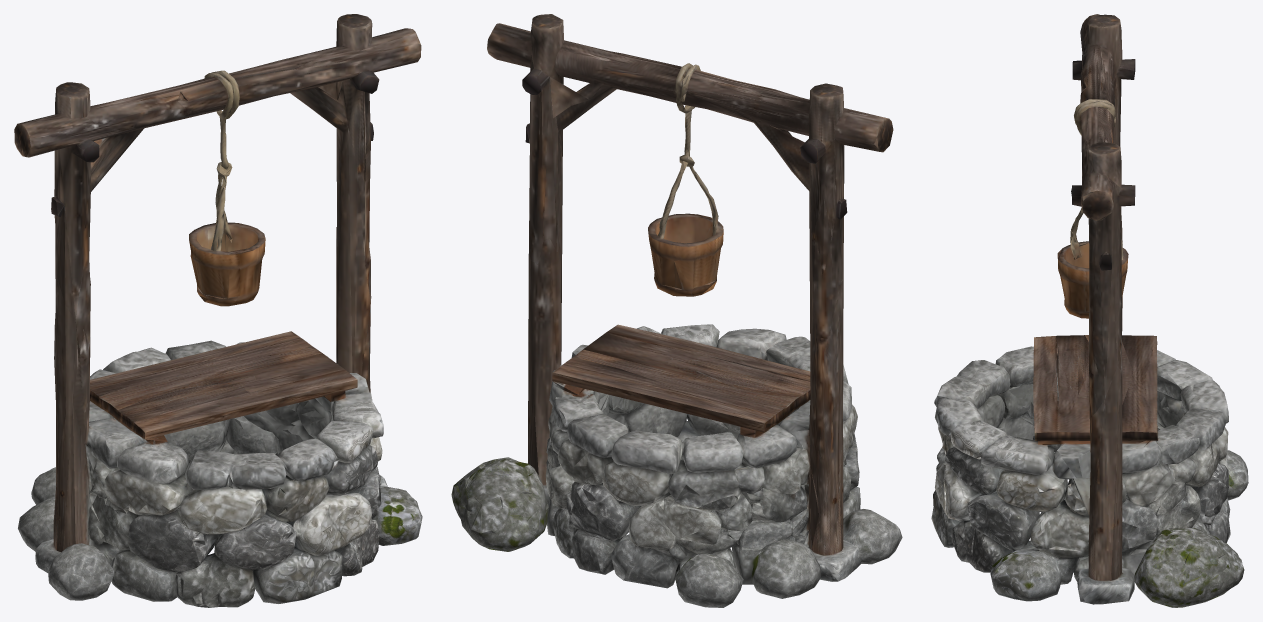
The model's file is well.glb.
The picture shows the model from 3 angles, left to right: view 1: azimuth 30°, elevation 25°; view 2: azimuth 150°, elevation 25°; view 3: azimuth 270°, elevation 25°; orthographic projection. The views are drawn at different scales.
Parts seen in each view (by area): view 1: Mesh_0.001; view 2: Mesh_0.001; view 3: Mesh_0.001.
Part boxes in pixels (bbox=[...]): Mesh_0.001: bbox=[14, 14, 422, 607]; Mesh_0.001: bbox=[451, 14, 902, 607]; Mesh_0.001: bbox=[931, 14, 1248, 607].
Size of the model in its own units: 1.71 by 2 by 1.29.
Materials: 1 (1 with a texture image).
